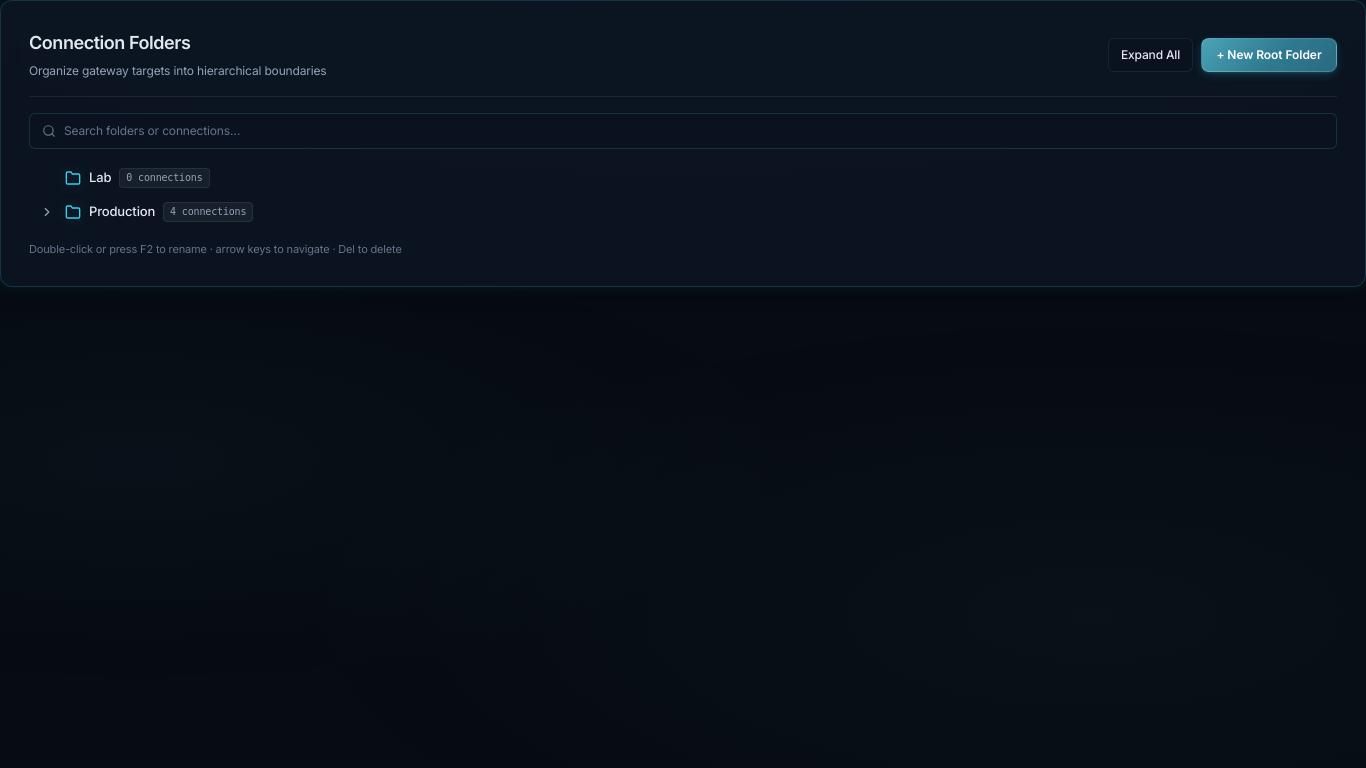
ConnectionFoldersView › shows aggregate connection counts and expands on demand
Expected: the text "4 connections" is shown, x1=163 y1=202 x2=253 y2=222
Expected: the list item "Web tier" is not shown
Click the button "Expand All".
click(1150, 55)  # box x1=1108 y1=38 x2=1193 y2=72
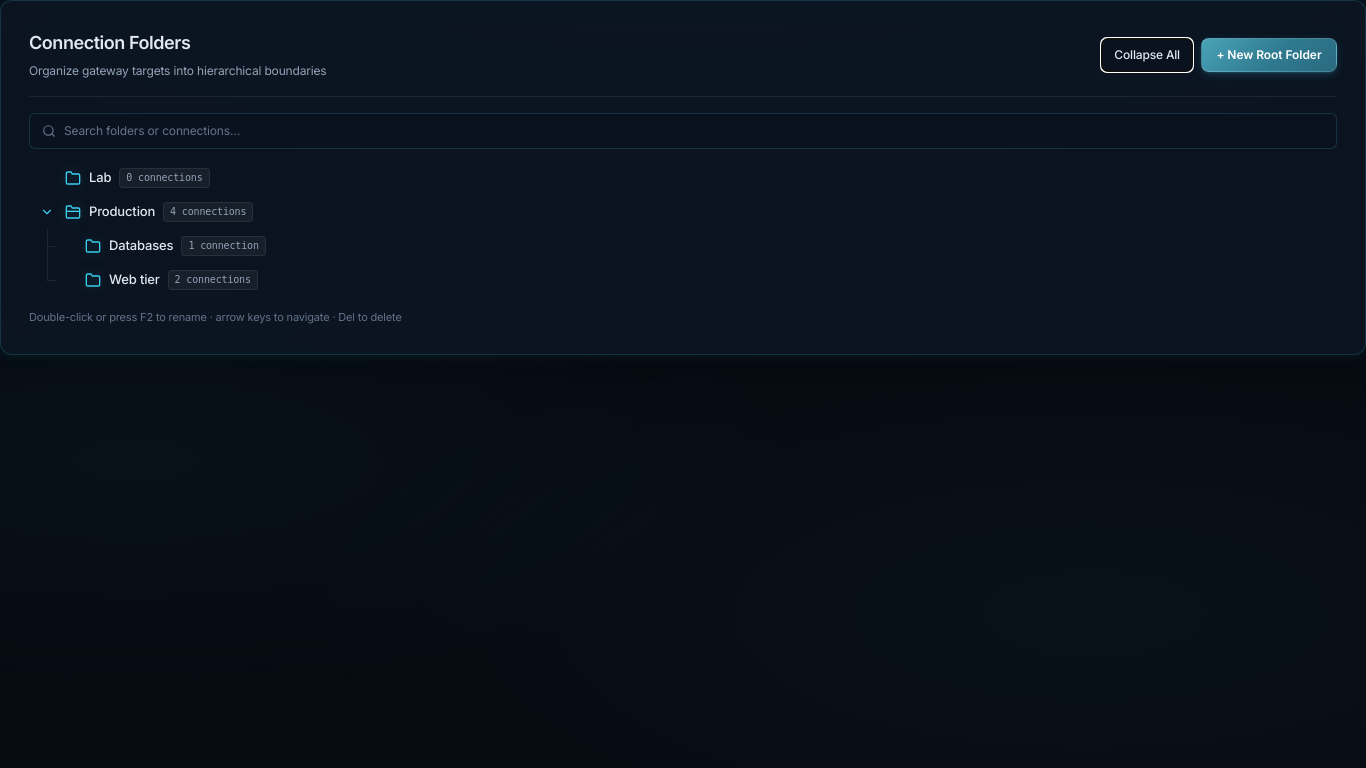
Expected: the list item "Web tier" is shown, x1=85 y1=270 x2=258 y2=290
Click the button "Collapse All".
click(1147, 55)  # box x1=1101 y1=38 x2=1193 y2=72
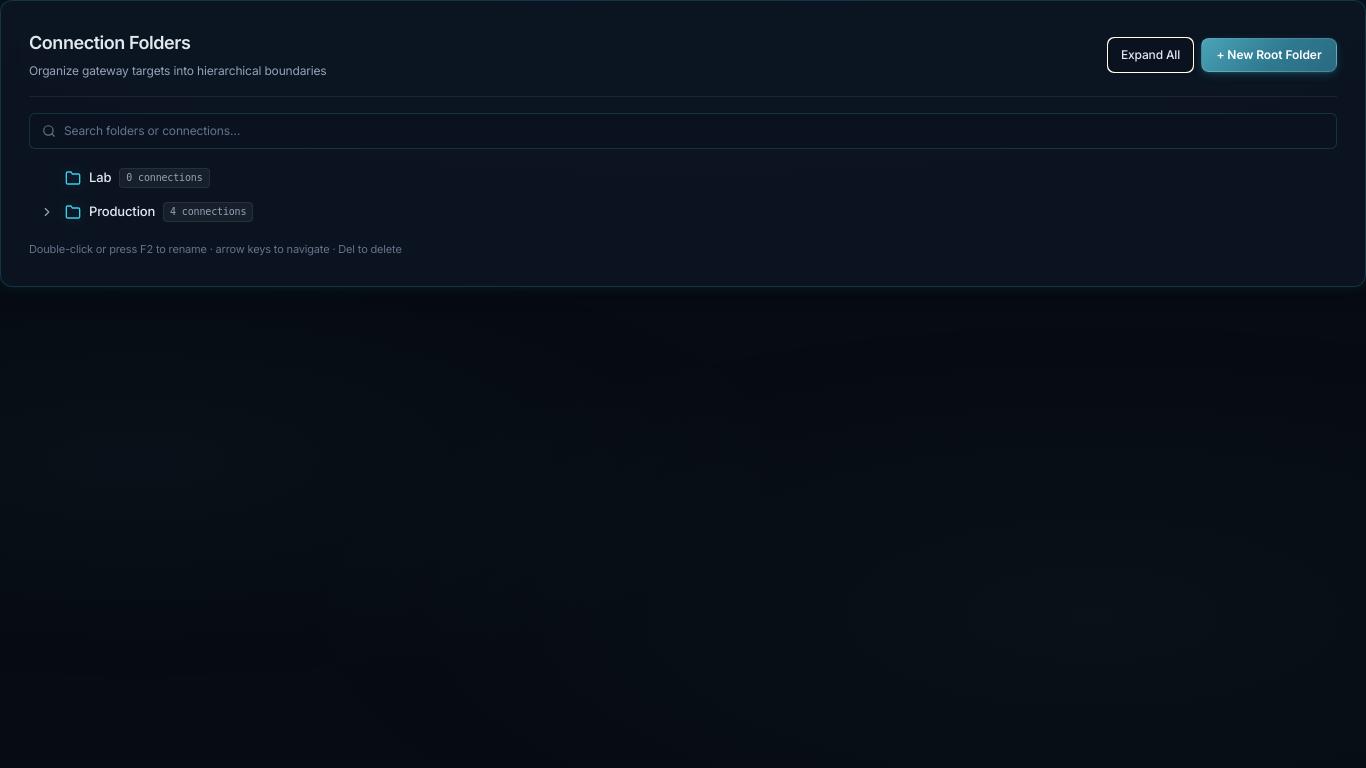
Expected: the text "Web tier" is gone
